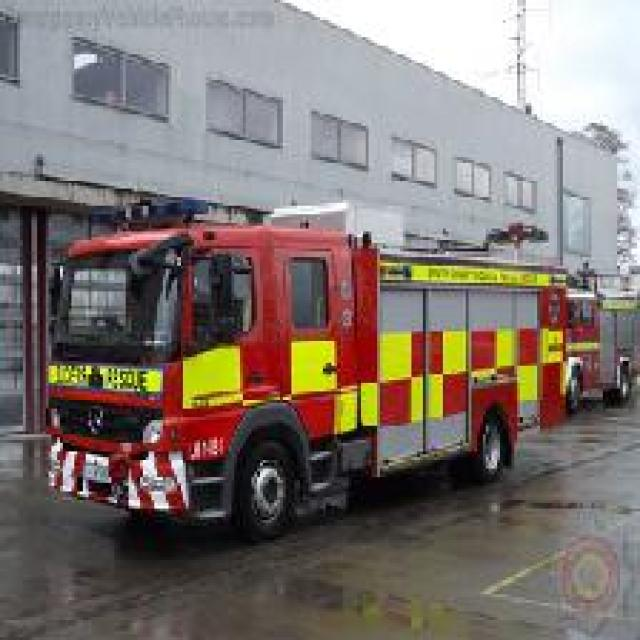Fire-truck: (40, 206, 583, 540)
